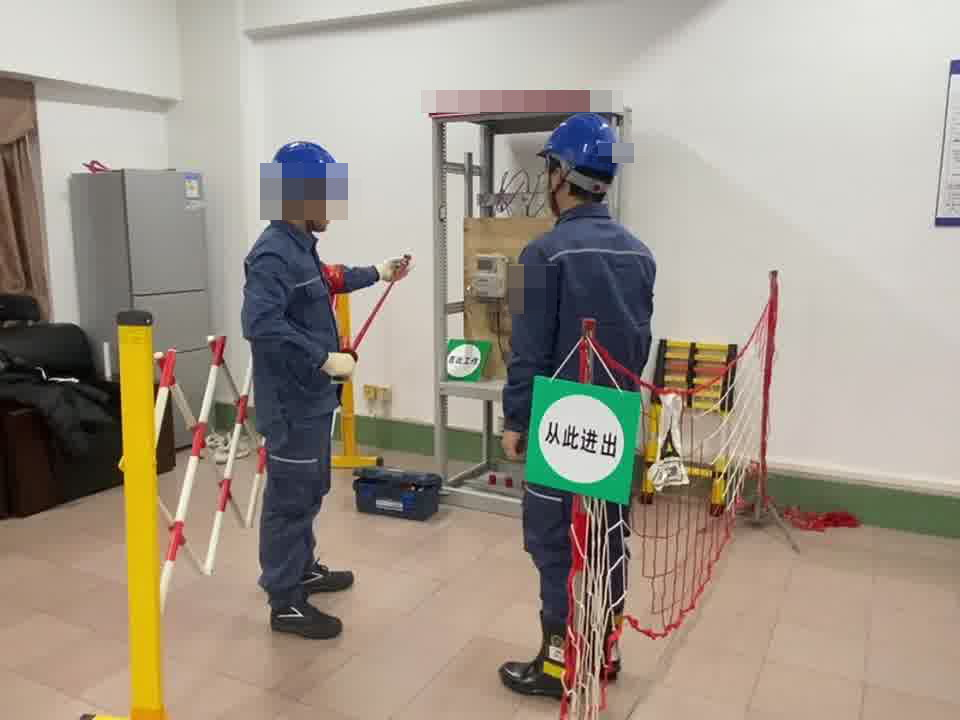badge: (317, 255, 347, 295)
downsuit: (512, 467, 629, 627), (254, 415, 347, 603)
halt: (265, 141, 350, 232), (539, 112, 624, 202)
hand: (499, 426, 530, 465)
inear: (284, 179, 329, 230), (544, 158, 569, 222)
intosign: (524, 370, 644, 514)
person: (494, 107, 668, 719), (238, 141, 384, 635)
shoe: (494, 612, 575, 701)
sleeve: (511, 273, 530, 313)
testrod: (325, 256, 415, 376)
upsuit: (506, 207, 660, 395), (242, 218, 356, 412)
wglove: (373, 246, 417, 287), (320, 346, 356, 383)
worksign: (444, 334, 492, 383)
